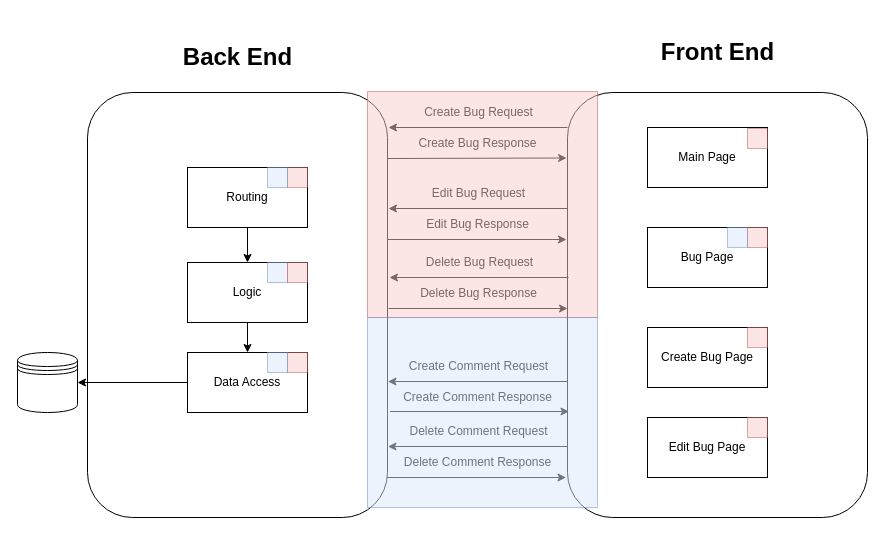
The diagram is 885 pixels wide and 535 high, and some of its shapes have lost their labels. The centre of each missing label's shape, as x and y in pixels:
"Bugs" belongs at (x=482, y=204).
"Comments" belongs at (x=482, y=412).
"SQLite" belongs at (x=47, y=382).
